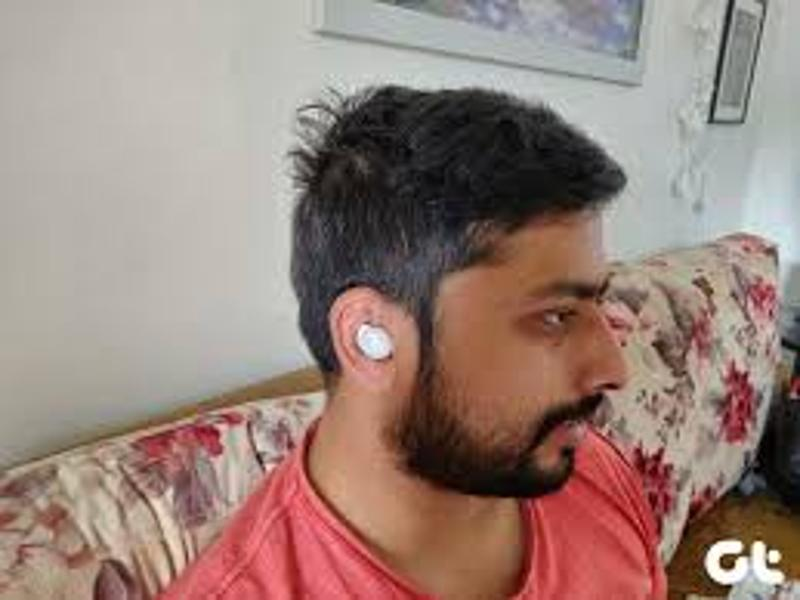headphone: (356, 322, 397, 363)
